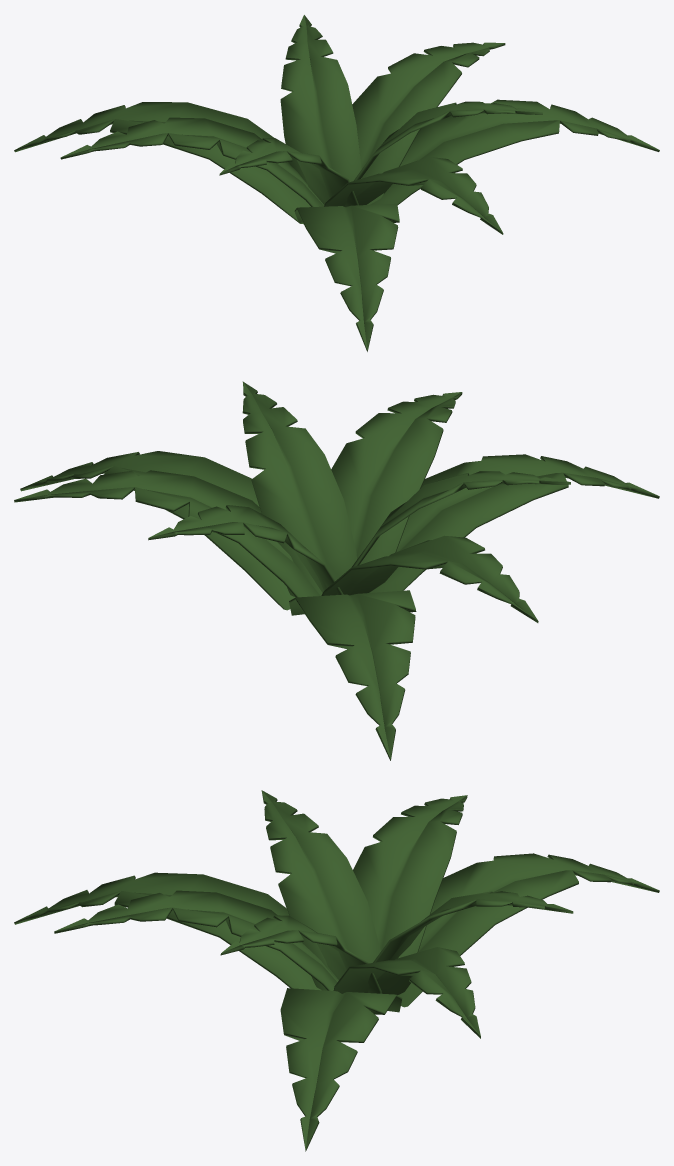
Rendered from green_03.glb.
The picture shows the model from 3 angles, top to bottom: view 1: azimuth 30°, elevation 25°; view 2: azimuth 150°, elevation 25°; view 3: azimuth 270°, elevation 25°; orthographic projection. The views are drawn at different scales.
Parts seen in each view (by area): view 1: green_03; view 2: green_03; view 3: green_03.
Boxes of the visible parts, x1,y1,x2,y2 form: green_03: [14, 15, 659, 351]; green_03: [14, 381, 659, 760]; green_03: [14, 790, 659, 1151].
Bounding box in the file's own units: 1.02 × 0.2085 × 0.9849.
1 material, 1 textured.
